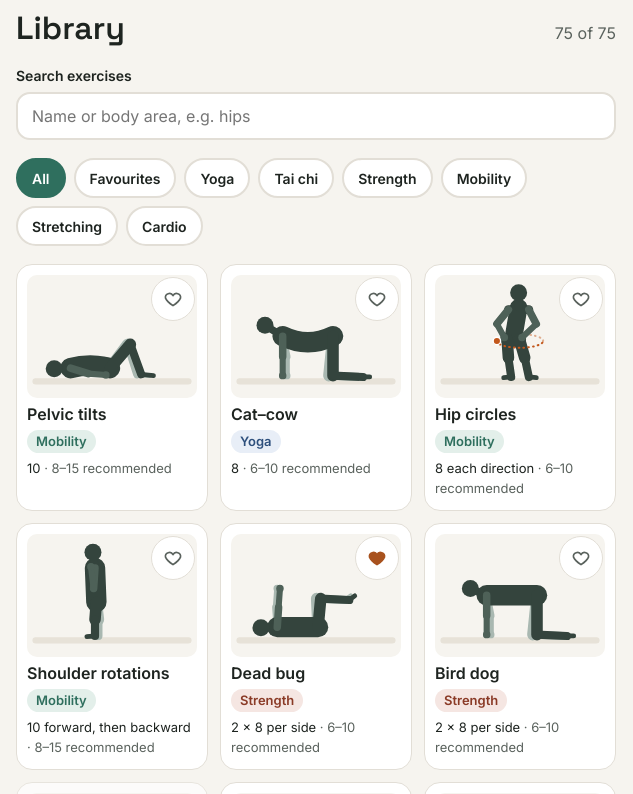
Test: Library › filters by technique and by favourites
The width and height of the screenshot is (633, 794).
Click the button "Yoga": (217, 178) left=184, top=158, right=250, bottom=198
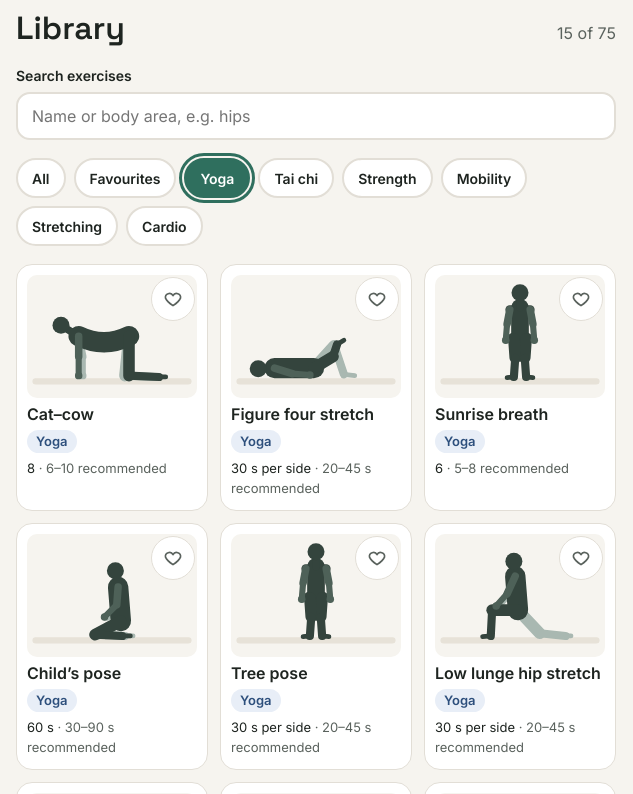
Click the button "Favourites": (125, 178) left=74, top=158, right=176, bottom=198
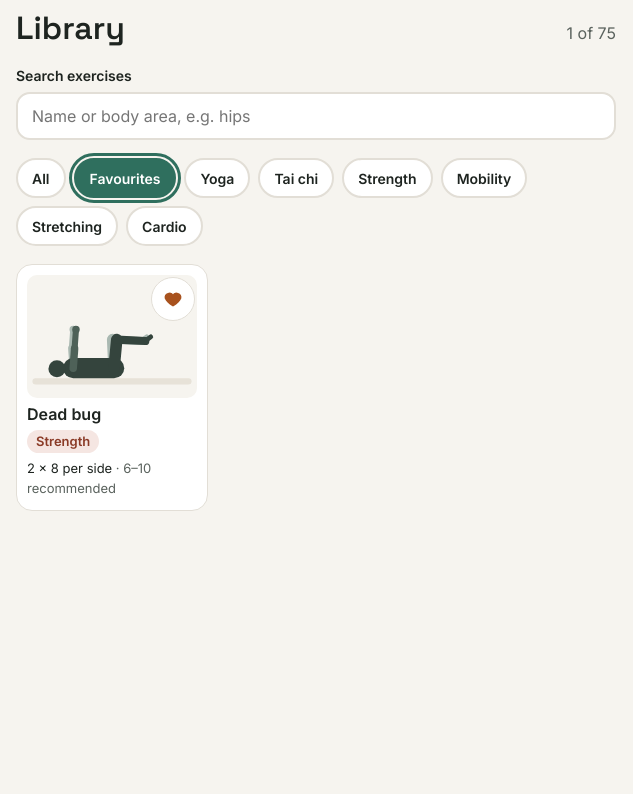
expect the number of list items is 1: met, box left=16, top=264, right=208, bottom=511
expect the text "Dead bug" is shown: met, box left=27, top=404, right=101, bottom=424
